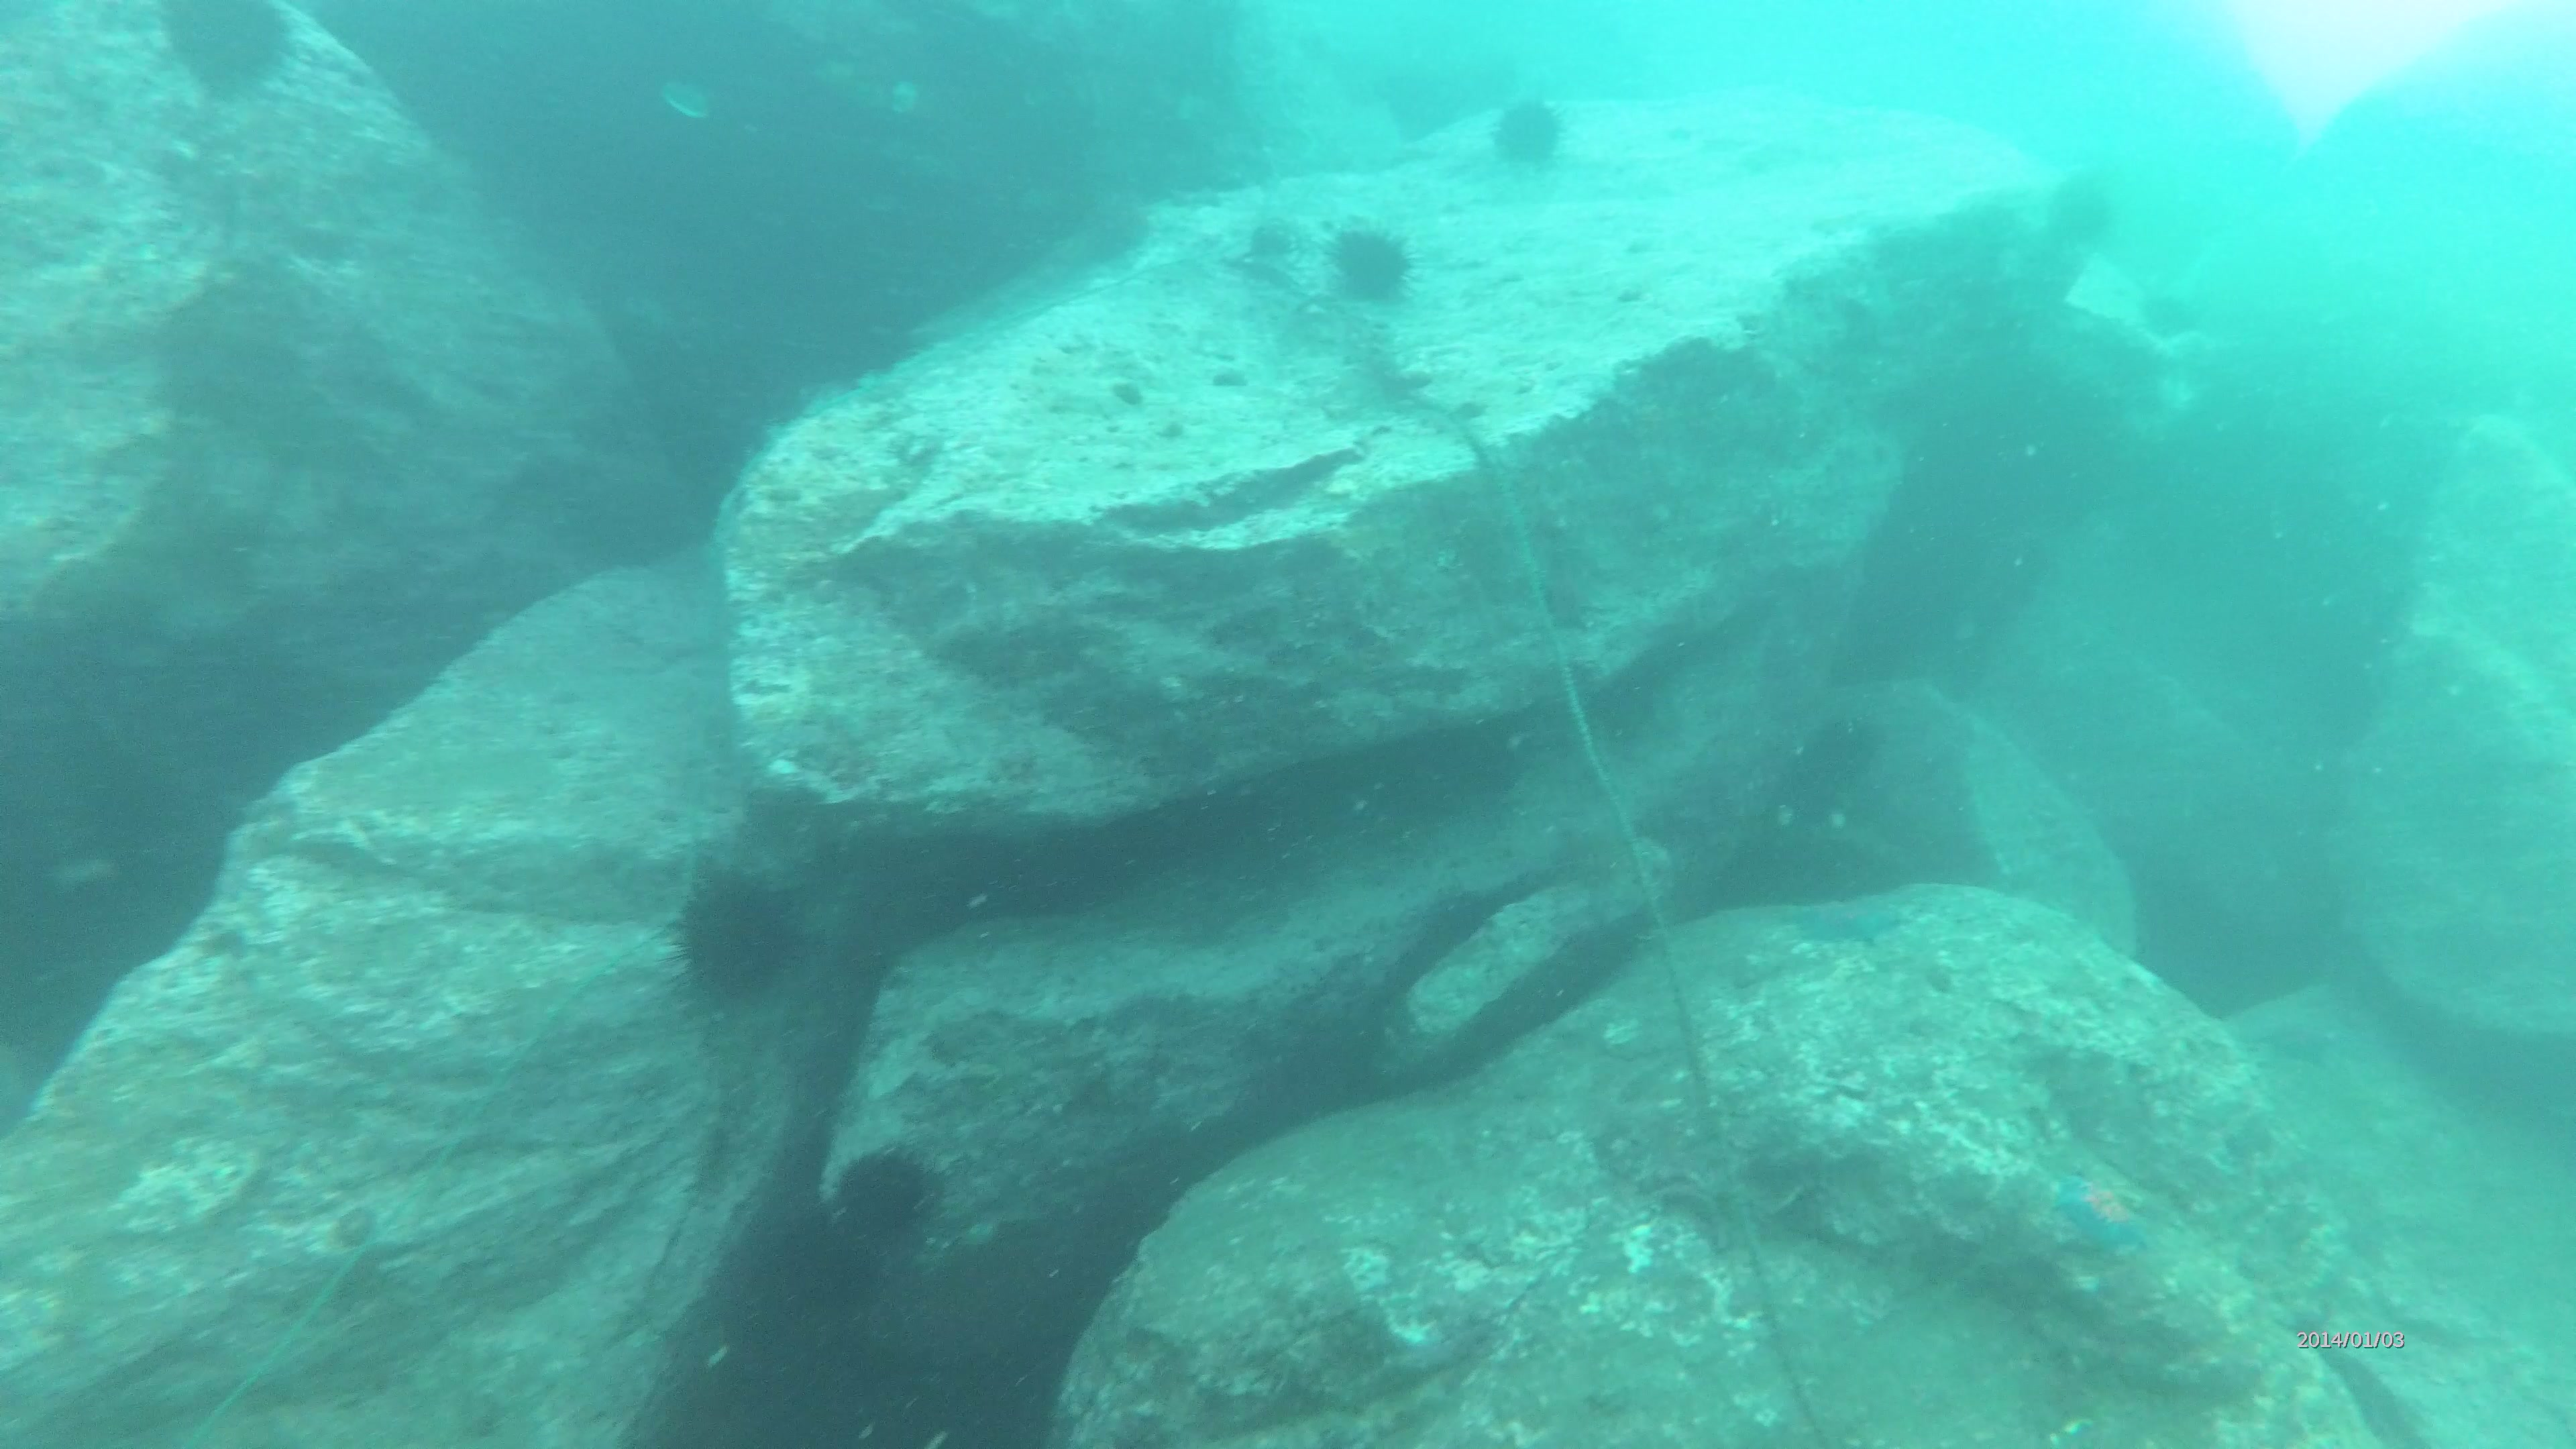echinus: (679, 862, 814, 1003), (830, 1141, 954, 1269), (1322, 218, 1417, 301), (1486, 92, 1575, 170)
starfish: (2042, 1157, 2181, 1283), (1792, 870, 1918, 959)
